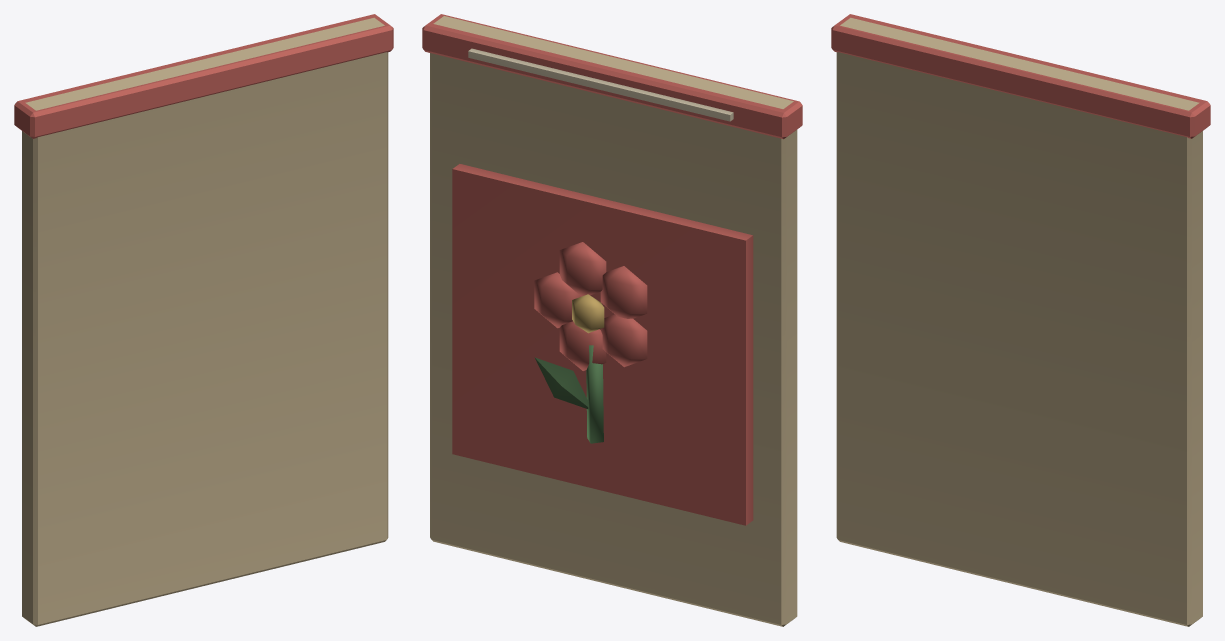
File: seed_flower_red_low.glb
3 views of the same model, side by side, from view 1: azimuth 30°, elevation 25°; view 2: azimuth 150°, elevation 25°; view 3: azimuth 330°, elevation 25° (orthographic).
Size of the model in its own units: 0.174 by 0.236 by 0.0318.
